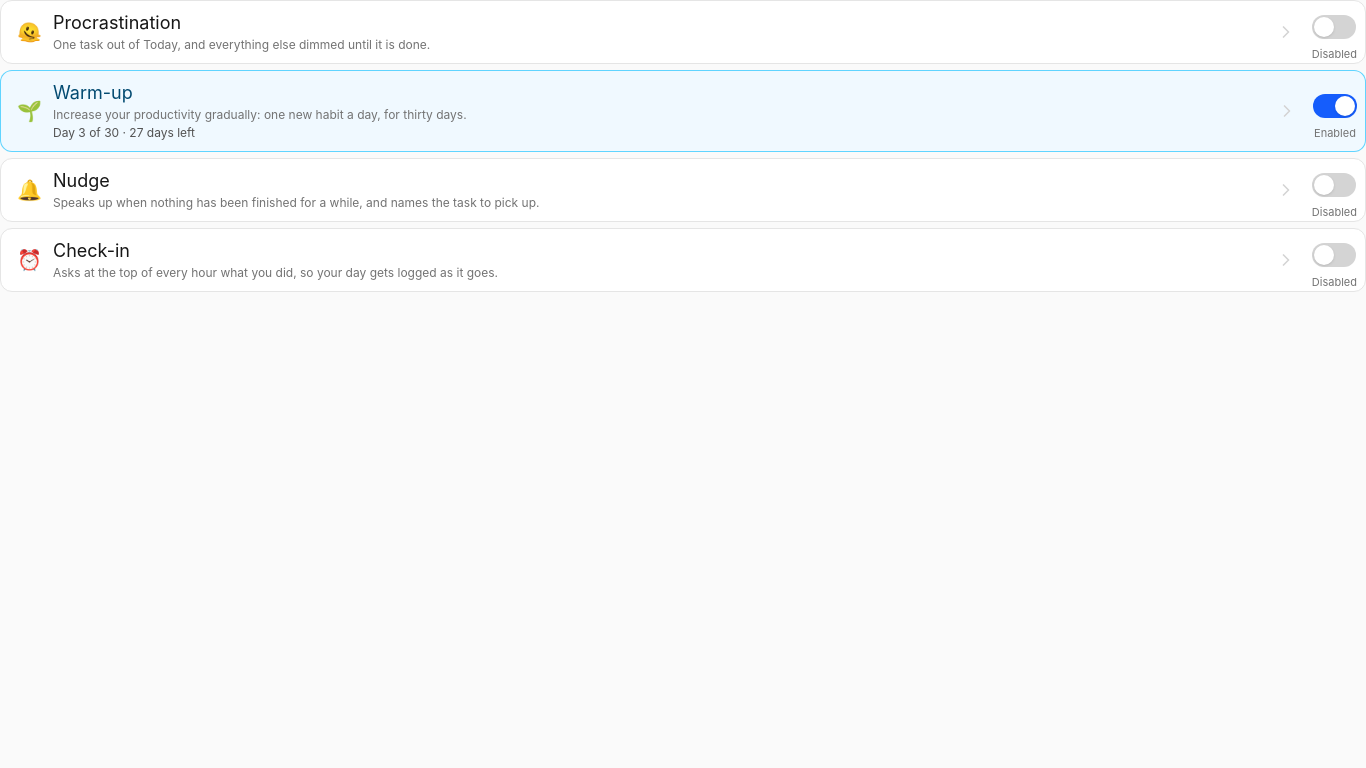
it: ModesPage › asks before the warm-up is turned off, in a sheet, and leaves it on when cancelled (WARM-9)
The width and height of the screenshot is (1366, 768).
Click the switch named "Warm-up" at (1335, 106), box [1313, 84, 1357, 128]
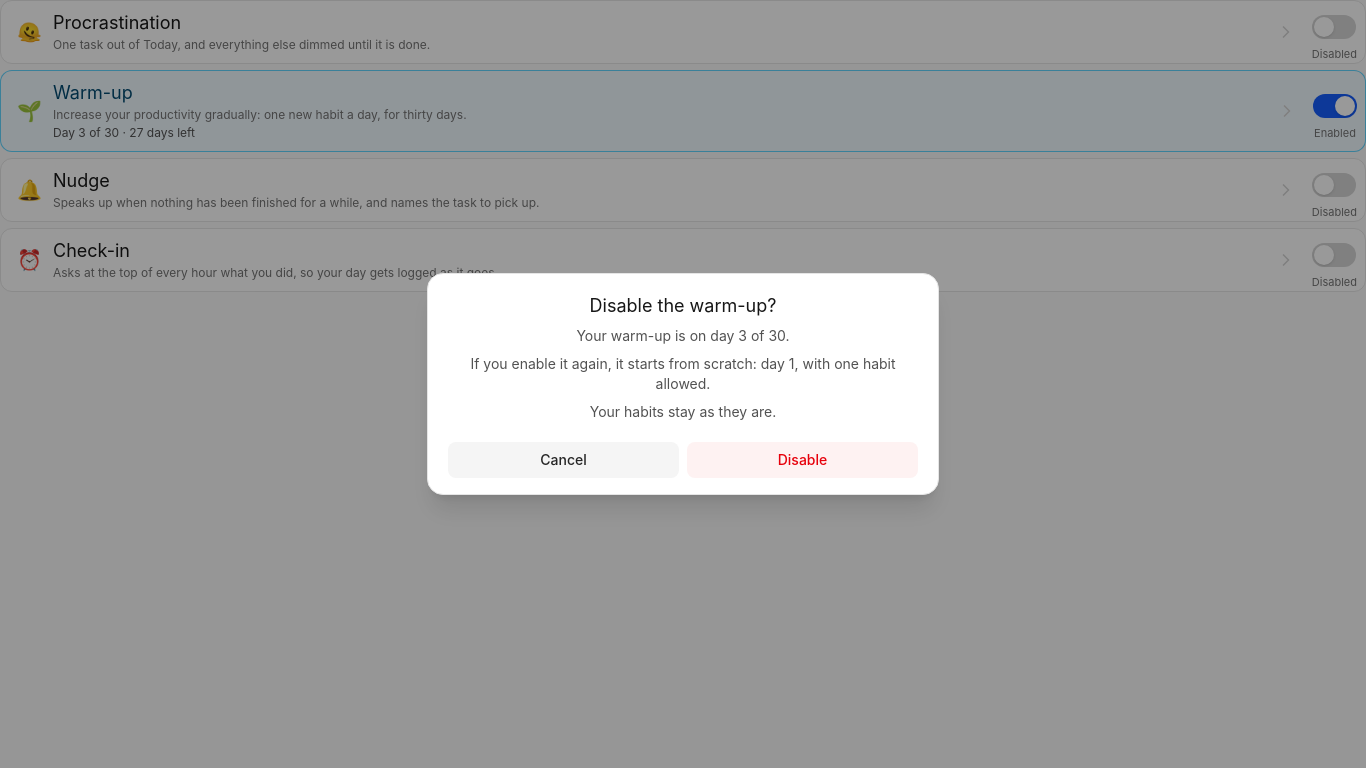
Now the dialog "Disable the warm-up?" shows "Your warm-up is on day 3 of 30.", box [576, 327, 790, 344]
Now the dialog "Disable the warm-up?" shows "it starts from scratch: day 1", box [470, 355, 896, 392]
Click the button "Cancel" at (564, 460), box [448, 442, 679, 478]
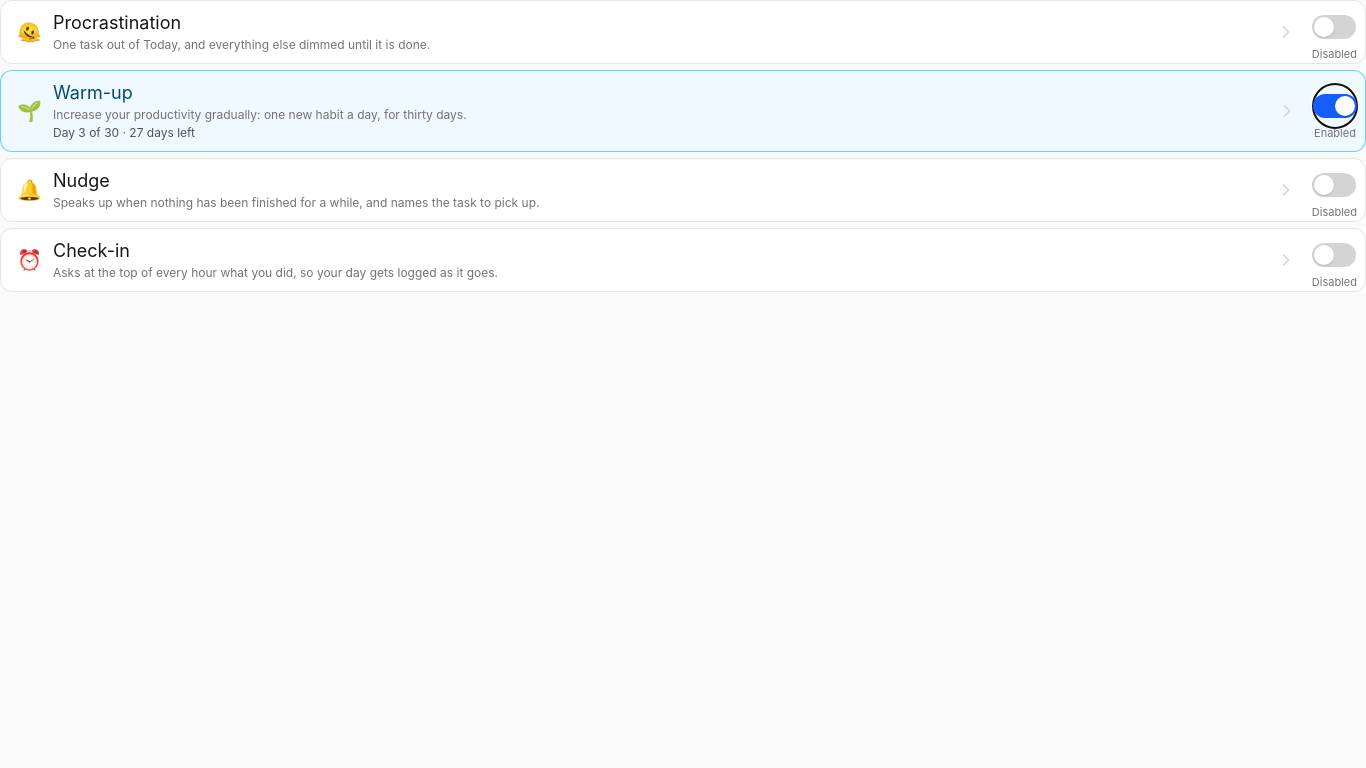
Now the dialog is gone
Click the switch named "Warm-up" at (1335, 106), box [1313, 84, 1357, 128]
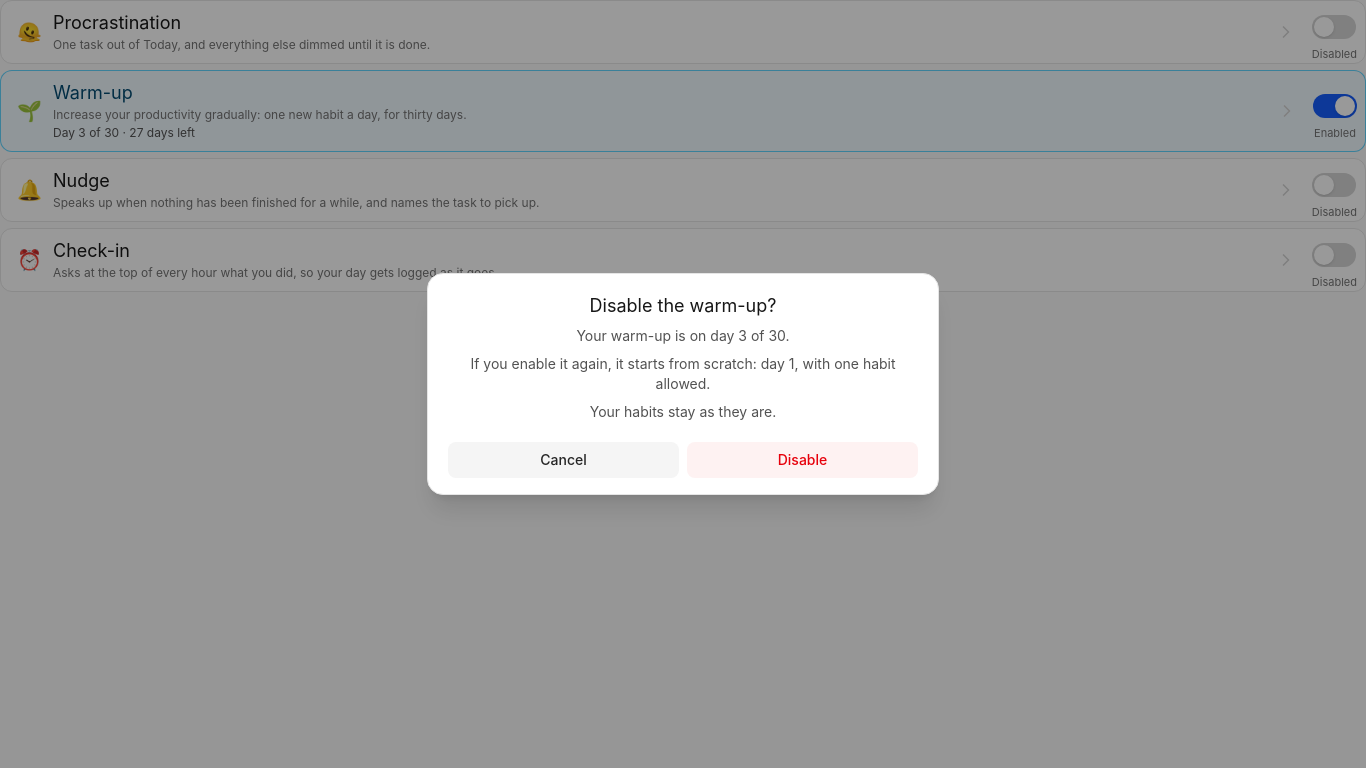
Click the button "Disable" at (802, 460), box [687, 442, 918, 478]
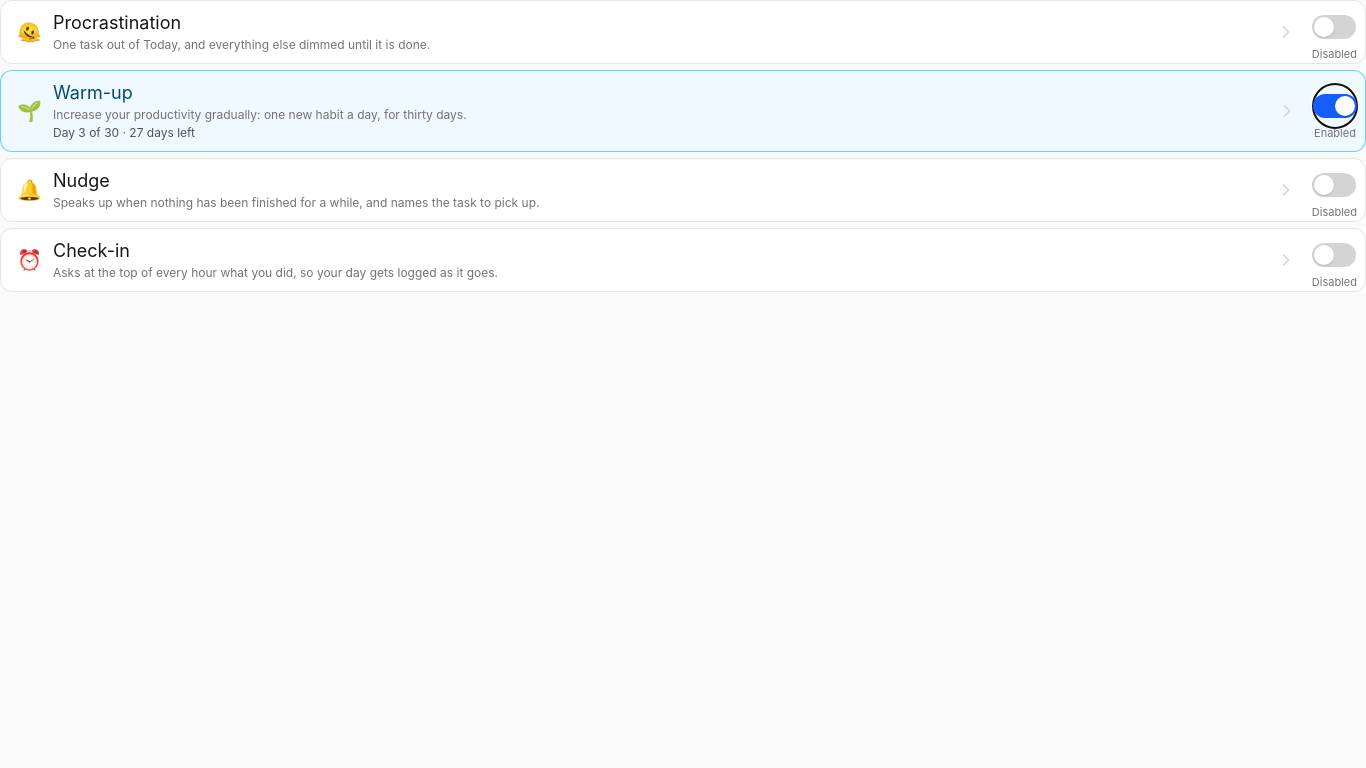
Now the dialog is gone
